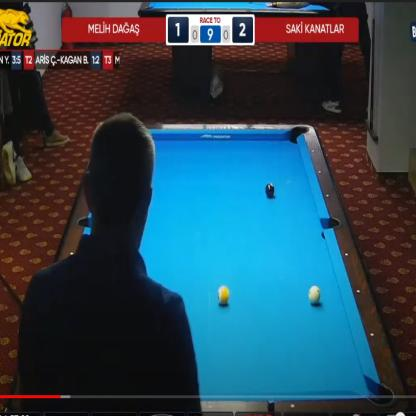Ball: (308, 285, 321, 305), (218, 286, 230, 304), (265, 182, 275, 198)
